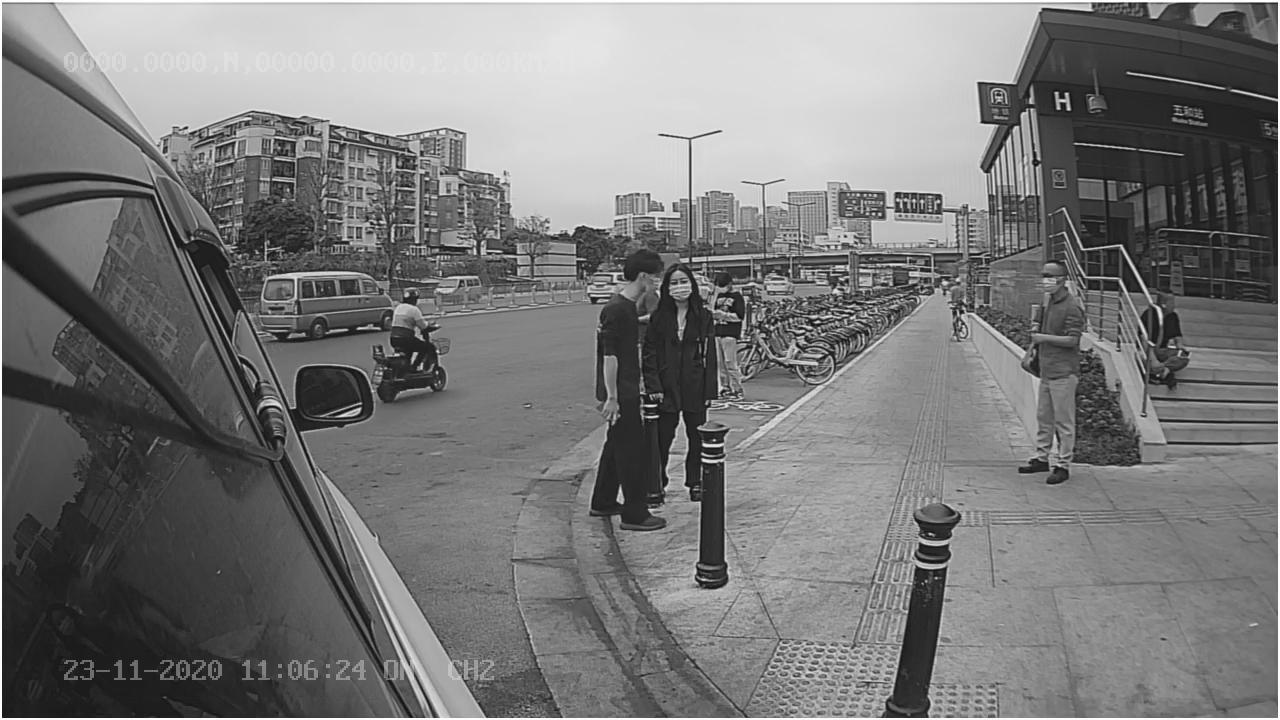person: (1006, 261, 1087, 498)
